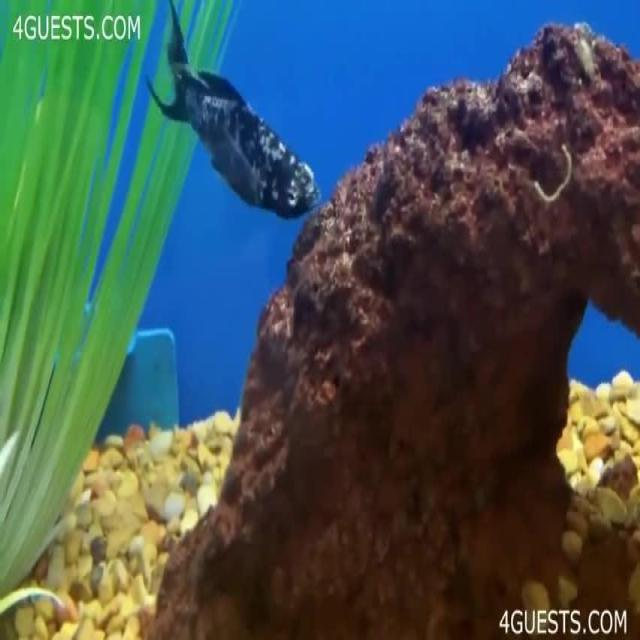PlatyFish: (142, 0, 326, 232)
